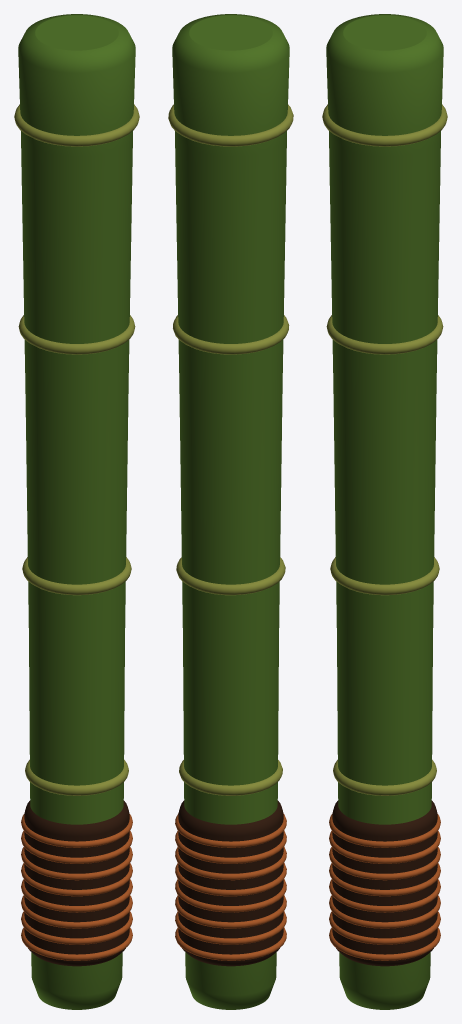
File: Bamboo_Stick.obj
3 renders of one model, left to right at view 1: azimuth 90°, elevation 25°; view 2: azimuth 150°, elevation 25°; view 3: azimuth 270°, elevation 25°, orthographic.
Parts seen in each view (by area): view 1: Rounded_bamboo_stick, Wrapped_grip, Bamboo_node.003, Bamboo_node.002, Bamboo_node.001, Bamboo_node, Grip_binding.002, Grip_binding.001, Grip_binding.004, Grip_binding.007, Grip_binding.005, Grip_binding (+2 smaller); view 2: Rounded_bamboo_stick, Wrapped_grip, Bamboo_node.003, Bamboo_node.002, Bamboo_node.001, Bamboo_node, Grip_binding.001, Grip_binding.007, Grip_binding.005, Grip_binding.004, Grip_binding.002, Grip_binding.006 (+2 smaller); view 3: Rounded_bamboo_stick, Wrapped_grip, Bamboo_node.003, Bamboo_node.002, Bamboo_node.001, Bamboo_node, Grip_binding.002, Grip_binding.001, Grip_binding.004, Grip_binding.007, Grip_binding.005, Grip_binding (+2 smaller).
Part boxes in pixels (x1,y1,x2,y2): Rounded_bamboo_stick: [18, 14, 135, 1009]; Wrapped_grip: [24, 800, 129, 966]; Bamboo_node.003: [14, 104, 139, 146]; Bamboo_node.002: [18, 315, 135, 354]; Bamboo_node.001: [22, 557, 131, 595]; Bamboo_node: [25, 759, 128, 795]; Grip_binding.002: [21, 895, 132, 928]; Grip_binding.001: [21, 911, 132, 944]; Grip_binding.004: [21, 863, 132, 896]; Grip_binding.007: [21, 813, 132, 847]; Grip_binding.005: [21, 847, 132, 880]; Grip_binding: [21, 927, 132, 960]; Rounded_bamboo_stick: [172, 14, 289, 1009]; Wrapped_grip: [178, 800, 283, 966]; Bamboo_node.003: [168, 104, 293, 146]; Bamboo_node.002: [173, 315, 289, 354]; Bamboo_node.001: [176, 557, 285, 595]; Bamboo_node: [179, 760, 282, 795]; Grip_binding.001: [175, 911, 286, 944]; Grip_binding.007: [175, 813, 286, 847]; Grip_binding.005: [175, 846, 286, 880]; Grip_binding.004: [175, 863, 286, 896]; Grip_binding.002: [175, 895, 286, 928]; Grip_binding.006: [175, 830, 286, 863]; Rounded_bamboo_stick: [326, 14, 443, 1009]; Wrapped_grip: [332, 800, 437, 966]; Bamboo_node.003: [322, 104, 447, 146]; Bamboo_node.002: [326, 315, 443, 354]; Bamboo_node.001: [330, 557, 439, 595]; Bamboo_node: [333, 759, 436, 795]; Grip_binding.002: [329, 895, 440, 928]; Grip_binding.001: [329, 911, 440, 944]; Grip_binding.004: [329, 863, 440, 896]; Grip_binding.007: [329, 813, 440, 847]; Grip_binding.005: [329, 847, 440, 880]; Grip_binding: [329, 927, 440, 960].
Bounding box in the file's own units: 0.141 × 1.19 × 0.141.
